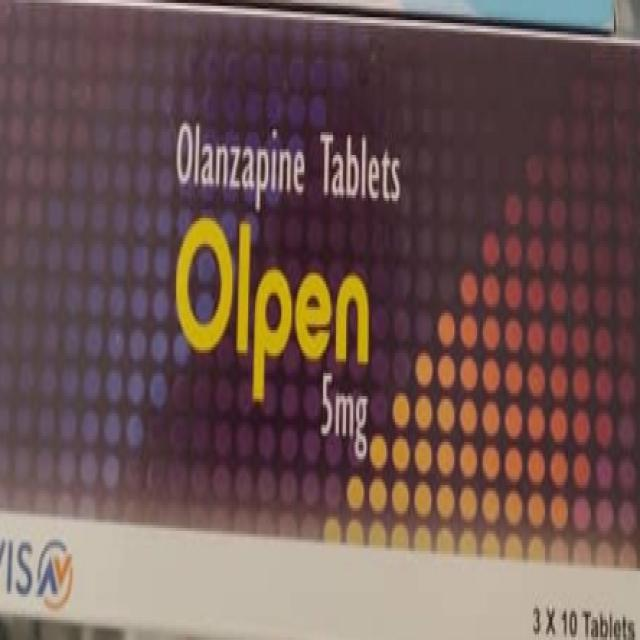drug-name: (174, 215, 386, 398)
